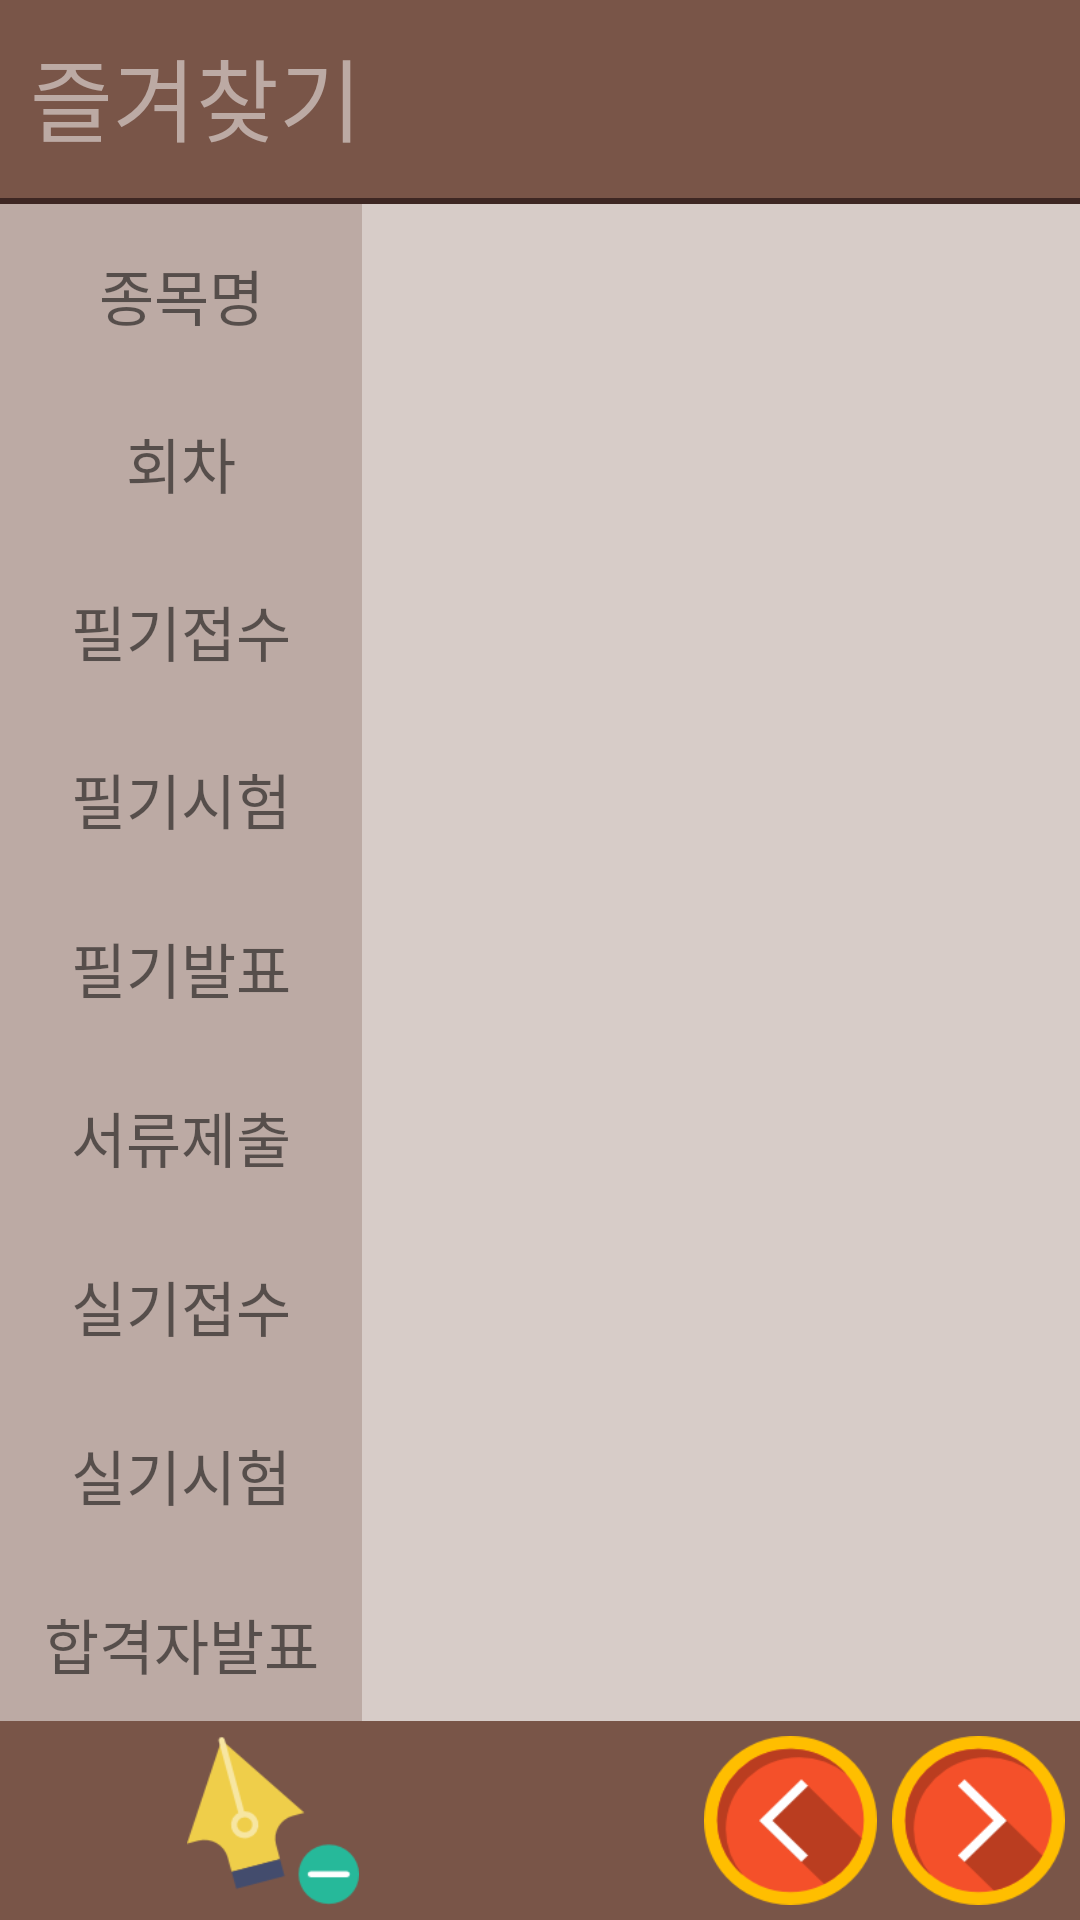

Where to tap for icons on this 1080*1920 app screen, as [x,y]:
back: [790,1820]
next: [978,1820]
remove: [273,1820]
